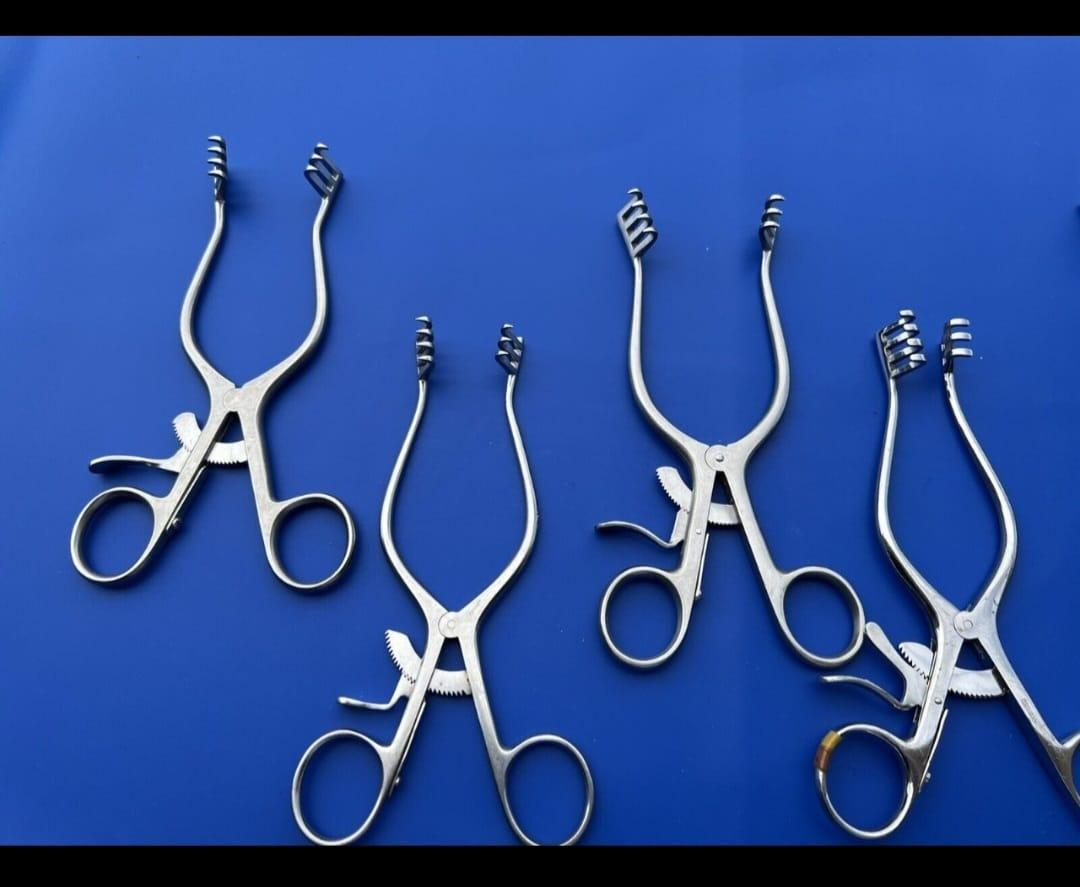Self Retractor: (280, 316, 600, 844), (59, 123, 370, 607), (813, 307, 1076, 843), (579, 183, 863, 676)
